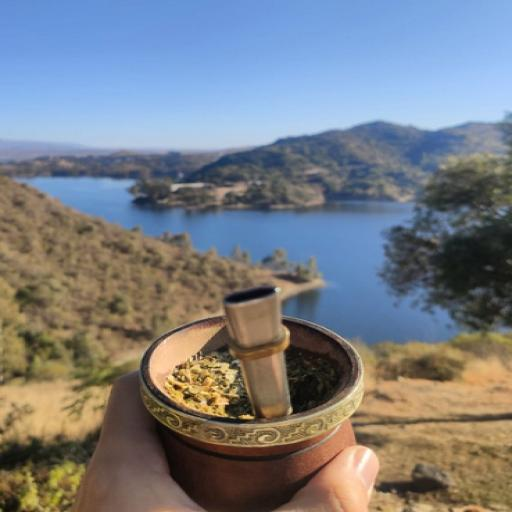mate: (126, 280, 386, 507)
